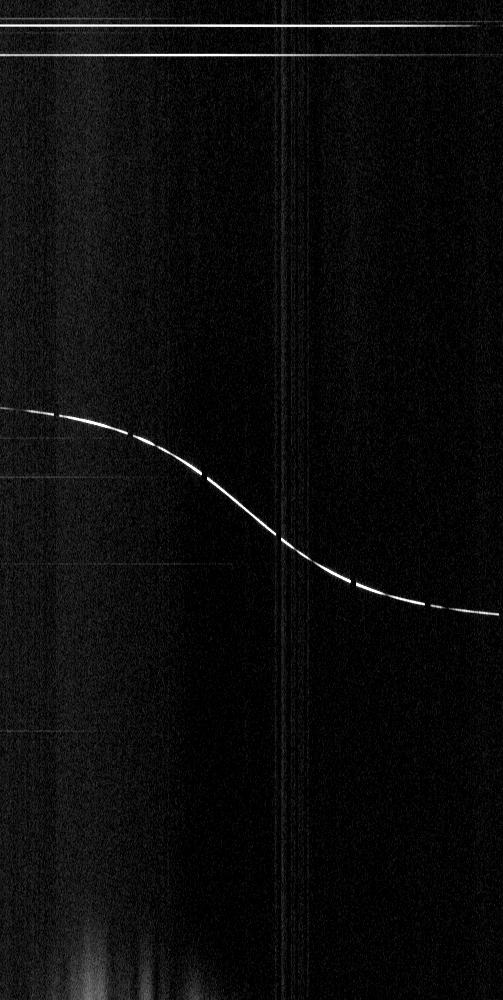signal: (0, 0, 502, 999)
